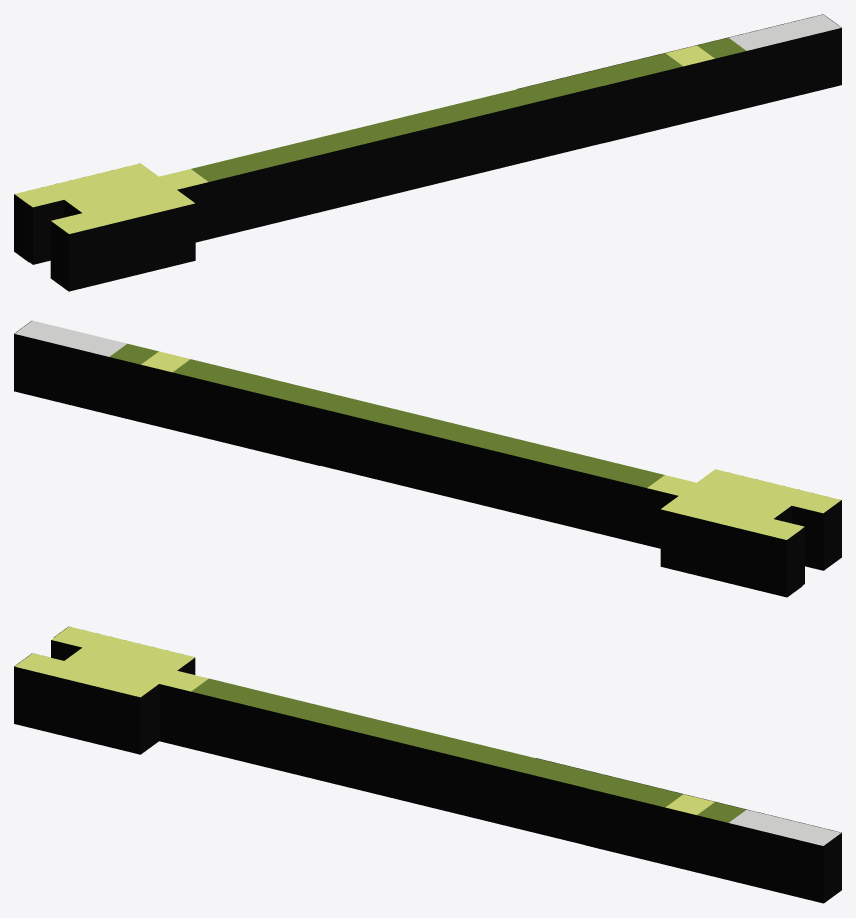
File: arrow3d.fbx
3 renders of one model, top to bottom at view 1: azimuth 30°, elevation 25°; view 2: azimuth 150°, elevation 25°; view 3: azimuth 330°, elevation 25°, orthographic.
Parts seen in each view (by area): view 1: elf_1_arrow.png; view 2: elf_1_arrow.png; view 3: elf_1_arrow.png.
Boxes of the visible parts, x1,y1,x2,y2 form: elf_1_arrow.png: (14, 14, 841, 291); elf_1_arrow.png: (14, 320, 841, 597); elf_1_arrow.png: (14, 626, 841, 903).
Size of the model in its own units: 2502 by 173 by 300.
